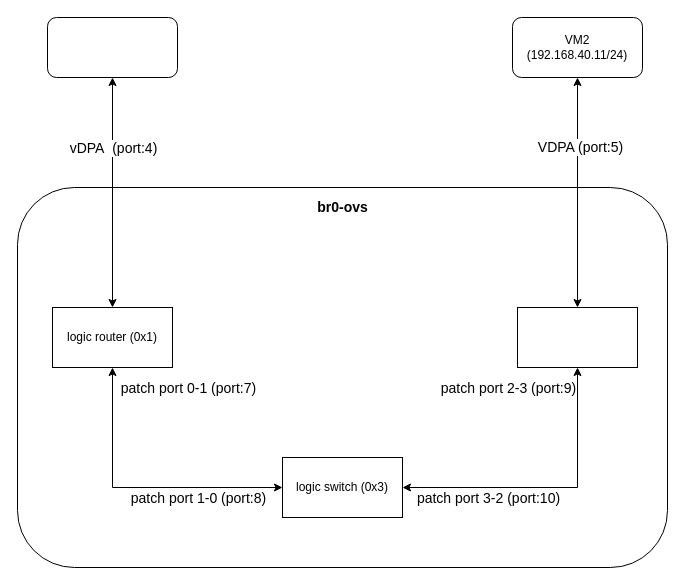
This 685x585 diagram has some shape labels left out. Here are the shapes that lost their labels. From the top down, the centre of each, then its label:
the point at 112,47: VM1 (192.168.30.11/24)
the point at 577,337: logic router (0x2)
